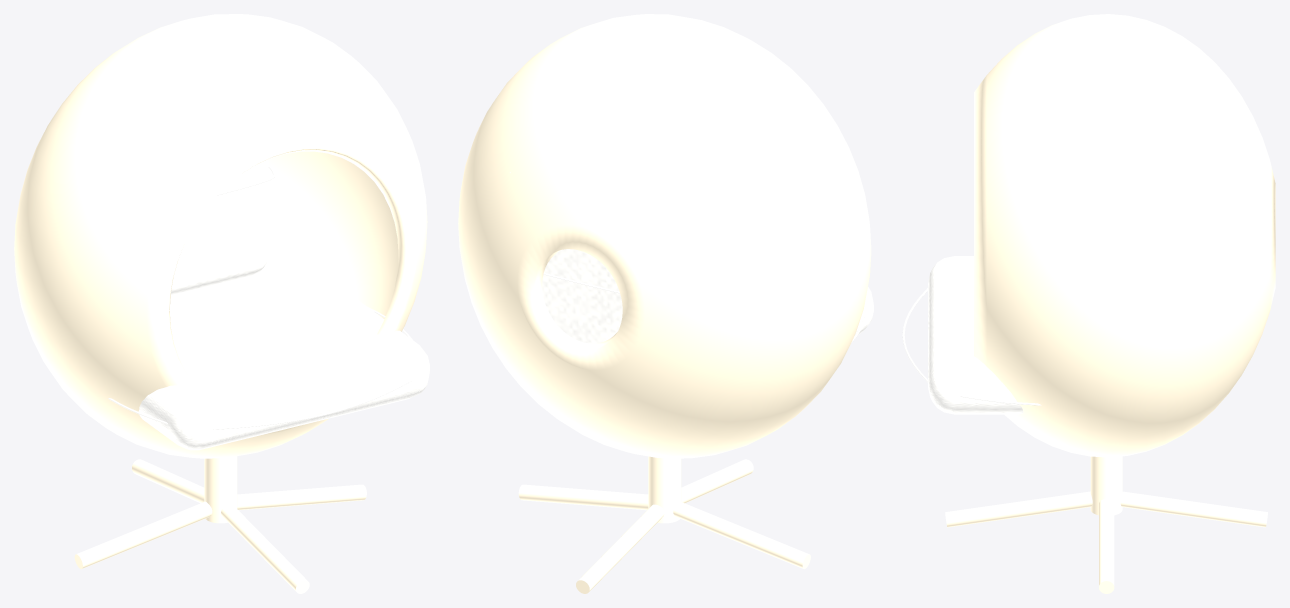
Rendered from ref04_11.glb.
3 views of the same model, side by side, from view 1: azimuth 30°, elevation 25°; view 2: azimuth 150°, elevation 25°; view 3: azimuth 270°, elevation 25° (orthographic). The views are drawn at different scales.
Parts seen in each view (by area): view 1: ref04_11; view 2: ref04_11; view 3: ref04_11.
Part boxes in pixels (x1=…): ref04_11: x1=14, y1=14, x2=429, y2=593; ref04_11: x1=458, y1=14, x2=873, y2=593; ref04_11: x1=902, y1=14, x2=1275, y2=593.
Size of the model in its own units: 0.9199 by 1.19 by 0.8153.
Materials: 2 (1 with a texture image).
